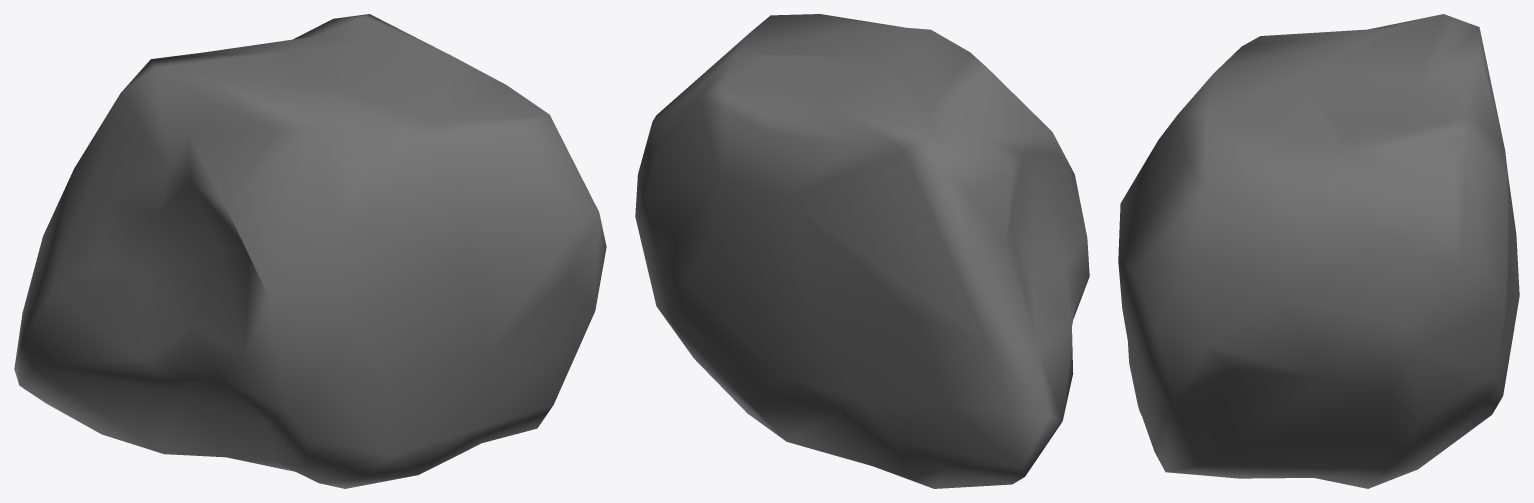
File: Rock_1a.gltf
The picture shows the model from 3 angles, left to right: view 1: azimuth 30°, elevation 25°; view 2: azimuth 150°, elevation 25°; view 3: azimuth 270°, elevation 25°; orthographic projection. The views are drawn at different scales.
Parts seen in each view (by area): view 1: Rock_1a; view 2: Rock_1a; view 3: Rock_1a.
Part boxes in pixels (x1,y1,x2,y2): Rock_1a: [14, 14, 606, 488]; Rock_1a: [635, 14, 1089, 488]; Rock_1a: [1118, 14, 1519, 488].
Bounding box in the file's own units: 39.66 × 29.03 × 29.3.
Materials: 1 (1 with a texture image).
